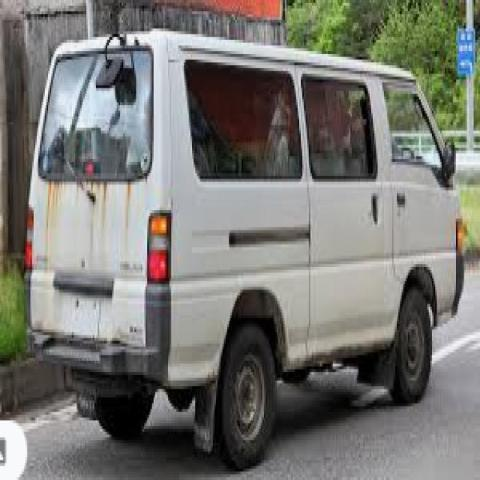van: (24, 28, 464, 469)
